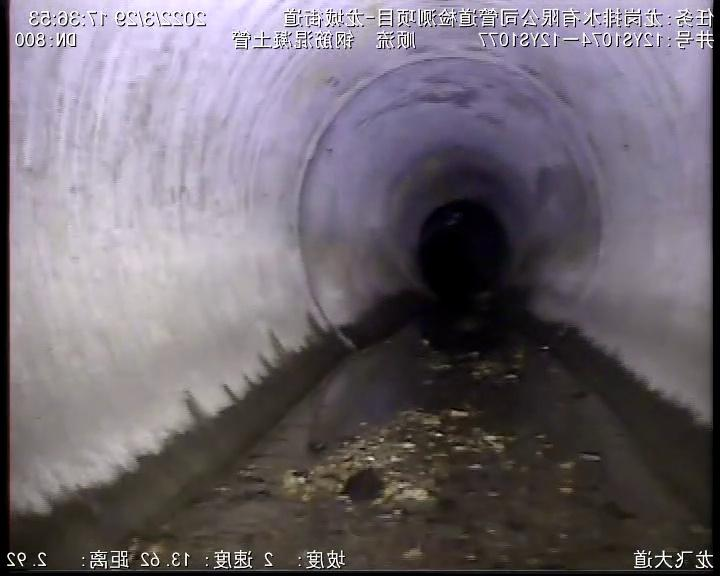CJ: (122, 326, 712, 568)
CKTJ: (292, 44, 611, 361)
